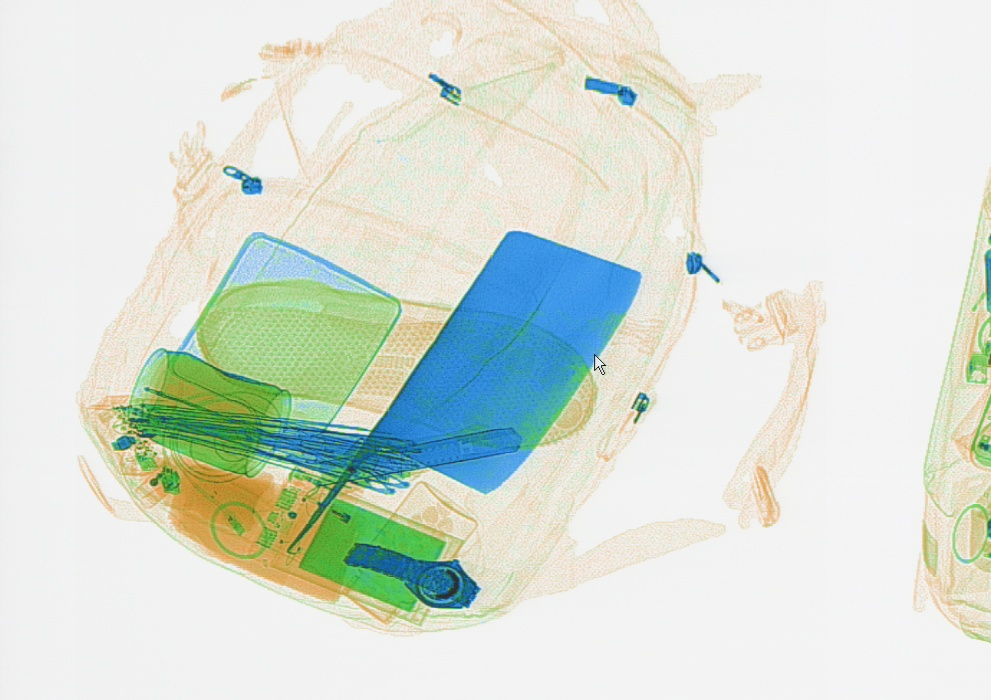knife: (285, 230, 640, 553), (309, 423, 523, 489)
